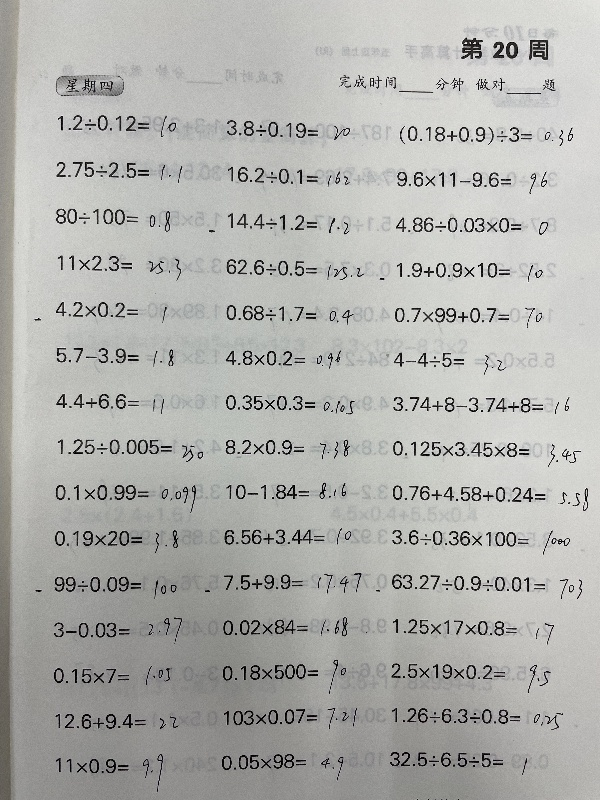equation: (386, 567, 586, 609), (391, 479, 593, 518), (387, 436, 582, 469), (387, 525, 571, 558), (386, 659, 550, 696), (387, 614, 554, 650), (391, 390, 573, 423), (385, 746, 530, 782), (50, 479, 199, 514), (219, 657, 353, 694), (392, 167, 554, 197), (391, 213, 552, 243), (390, 302, 544, 333), (50, 752, 169, 792), (394, 121, 576, 147), (392, 257, 548, 287), (387, 703, 565, 729), (53, 432, 207, 461), (391, 346, 511, 382), (51, 297, 172, 332), (216, 749, 345, 781), (218, 568, 364, 596), (54, 251, 185, 282), (222, 703, 360, 732), (50, 526, 182, 556), (50, 618, 185, 646), (221, 255, 366, 281), (218, 612, 351, 640), (222, 116, 354, 144), (221, 435, 351, 463), (50, 204, 174, 233), (52, 110, 179, 138), (49, 570, 179, 597), (51, 156, 185, 182), (220, 390, 357, 415), (48, 663, 173, 690), (51, 343, 176, 369), (221, 301, 356, 325), (221, 478, 350, 503), (223, 209, 352, 234), (221, 345, 344, 371), (218, 524, 354, 547), (222, 163, 352, 187), (51, 387, 167, 413), (51, 709, 182, 732)
